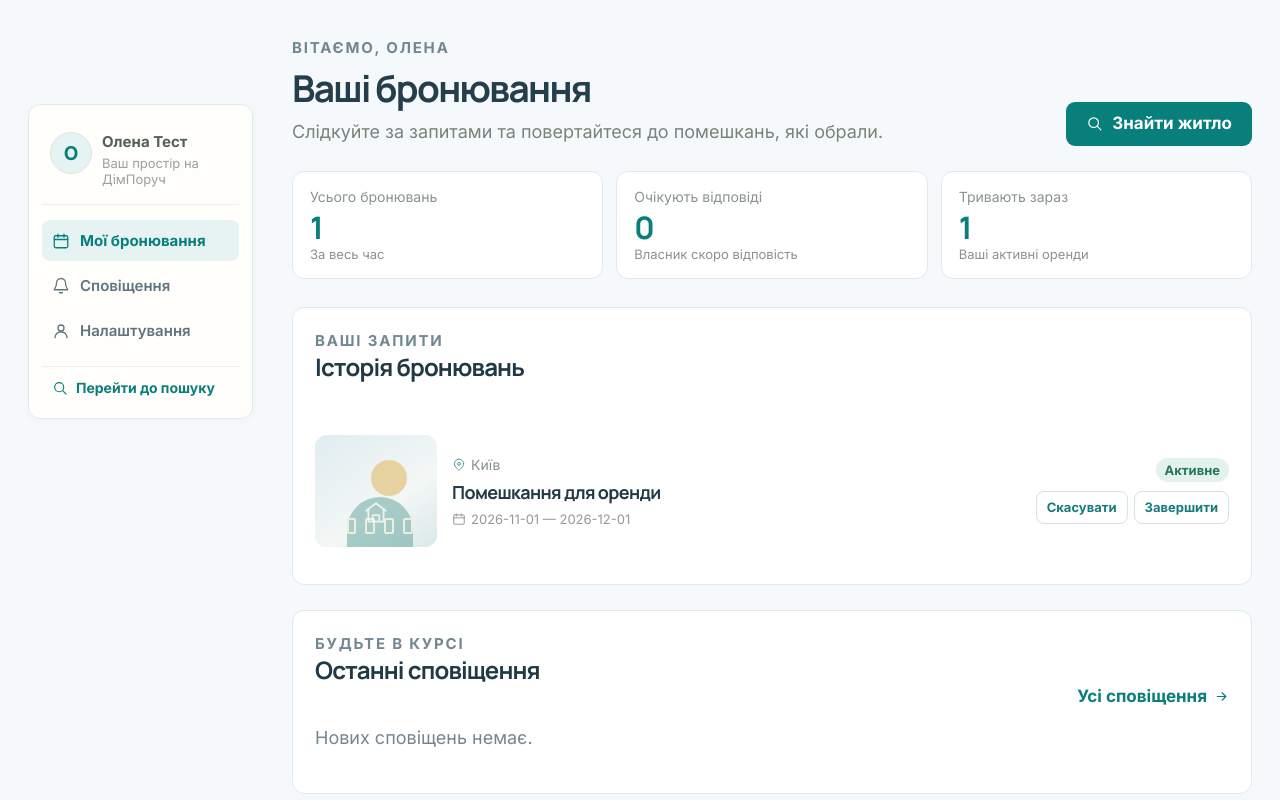
it: frontend integration flows › lets a tenant complete an active booking
Expected: the heading "Помешкання для оренди" is shown, top-left (452, 480), bottom-right (661, 504)
Click the button "Завершити".
click(1181, 508)  # box top-left (1134, 491), bottom-right (1229, 524)
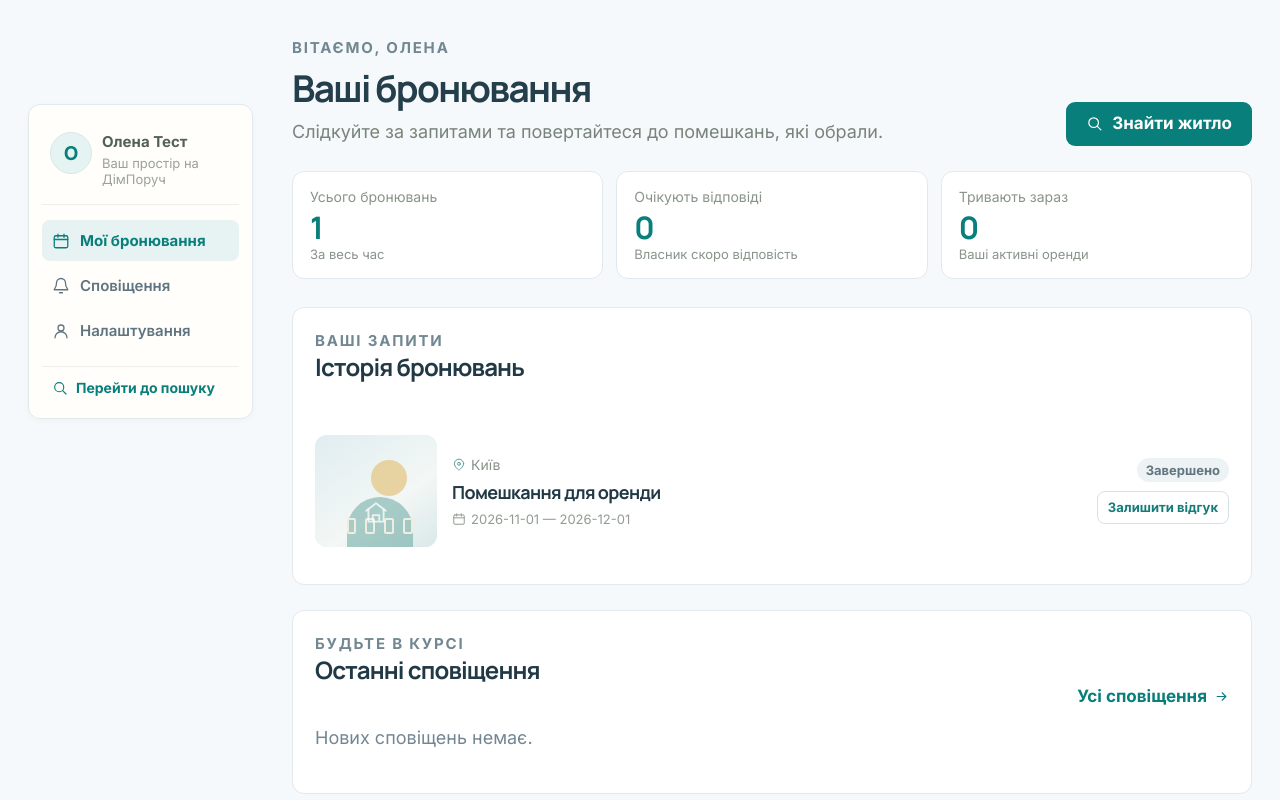
Expected: the text "Завершено" is shown, top-left (1137, 458), bottom-right (1229, 482)
